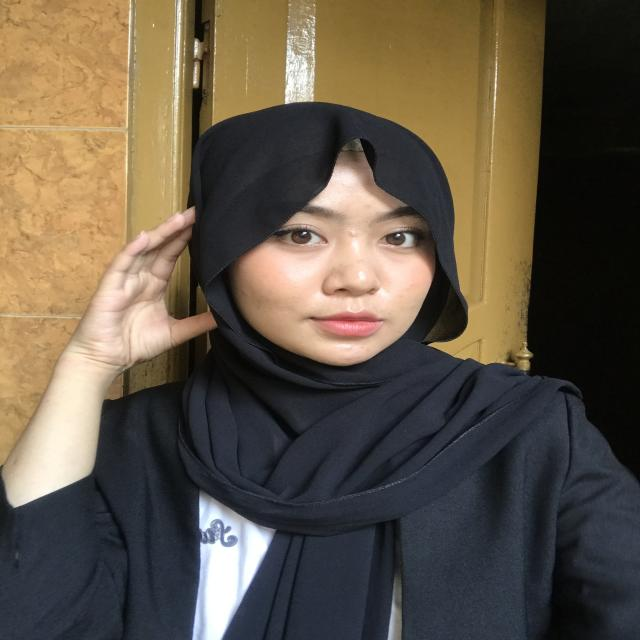mendengar: (74, 195, 218, 379)
